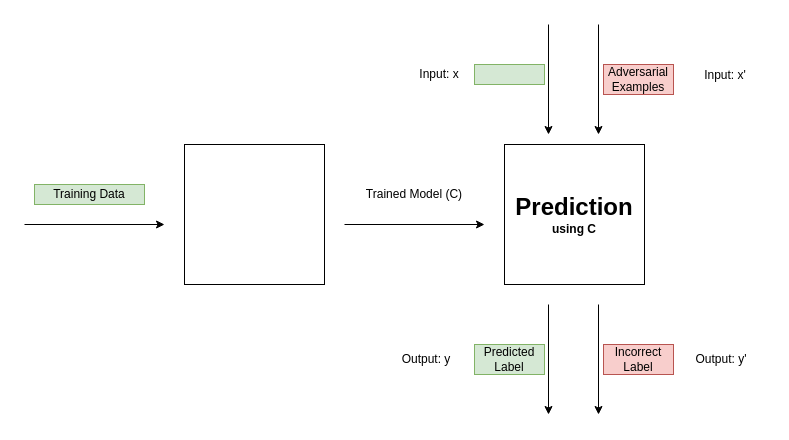
Image size: 789x440. Some labels were removed from this diagram. The shapes that lost their labels are listed below. From the top down, each one's centre as x and y in pixels, then its label:
At [509,74]: "Examples".
At [254,214]: "Algorithm".
